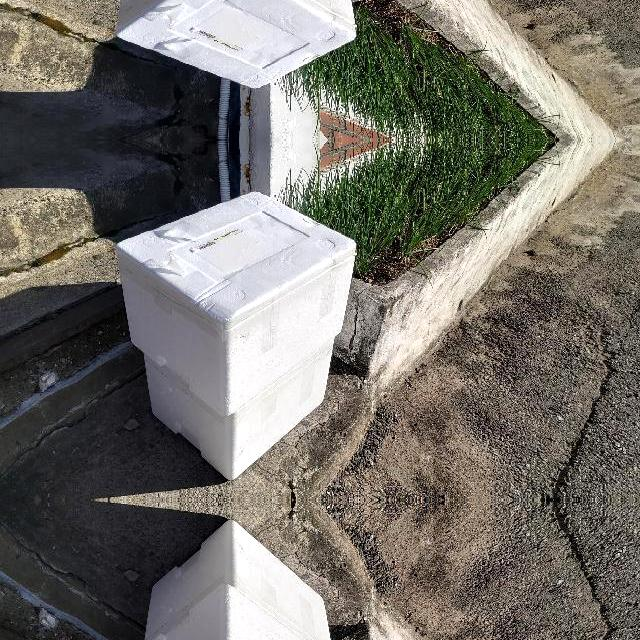Styrofoam: (116, 191, 356, 415), (116, 192, 356, 416), (144, 338, 333, 480), (144, 340, 333, 480), (144, 520, 333, 640), (145, 520, 331, 640), (116, 0, 356, 89), (116, 0, 356, 88), (116, 583, 356, 640)
